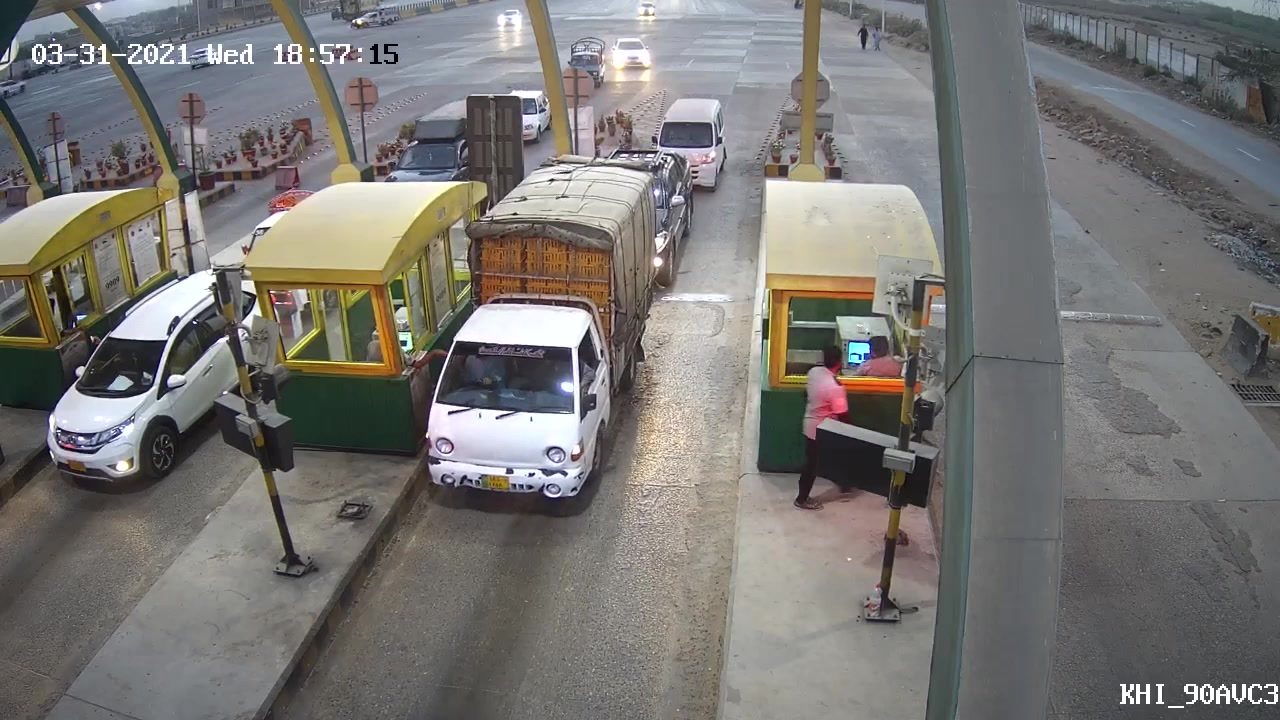F3: (414, 168, 662, 504)
